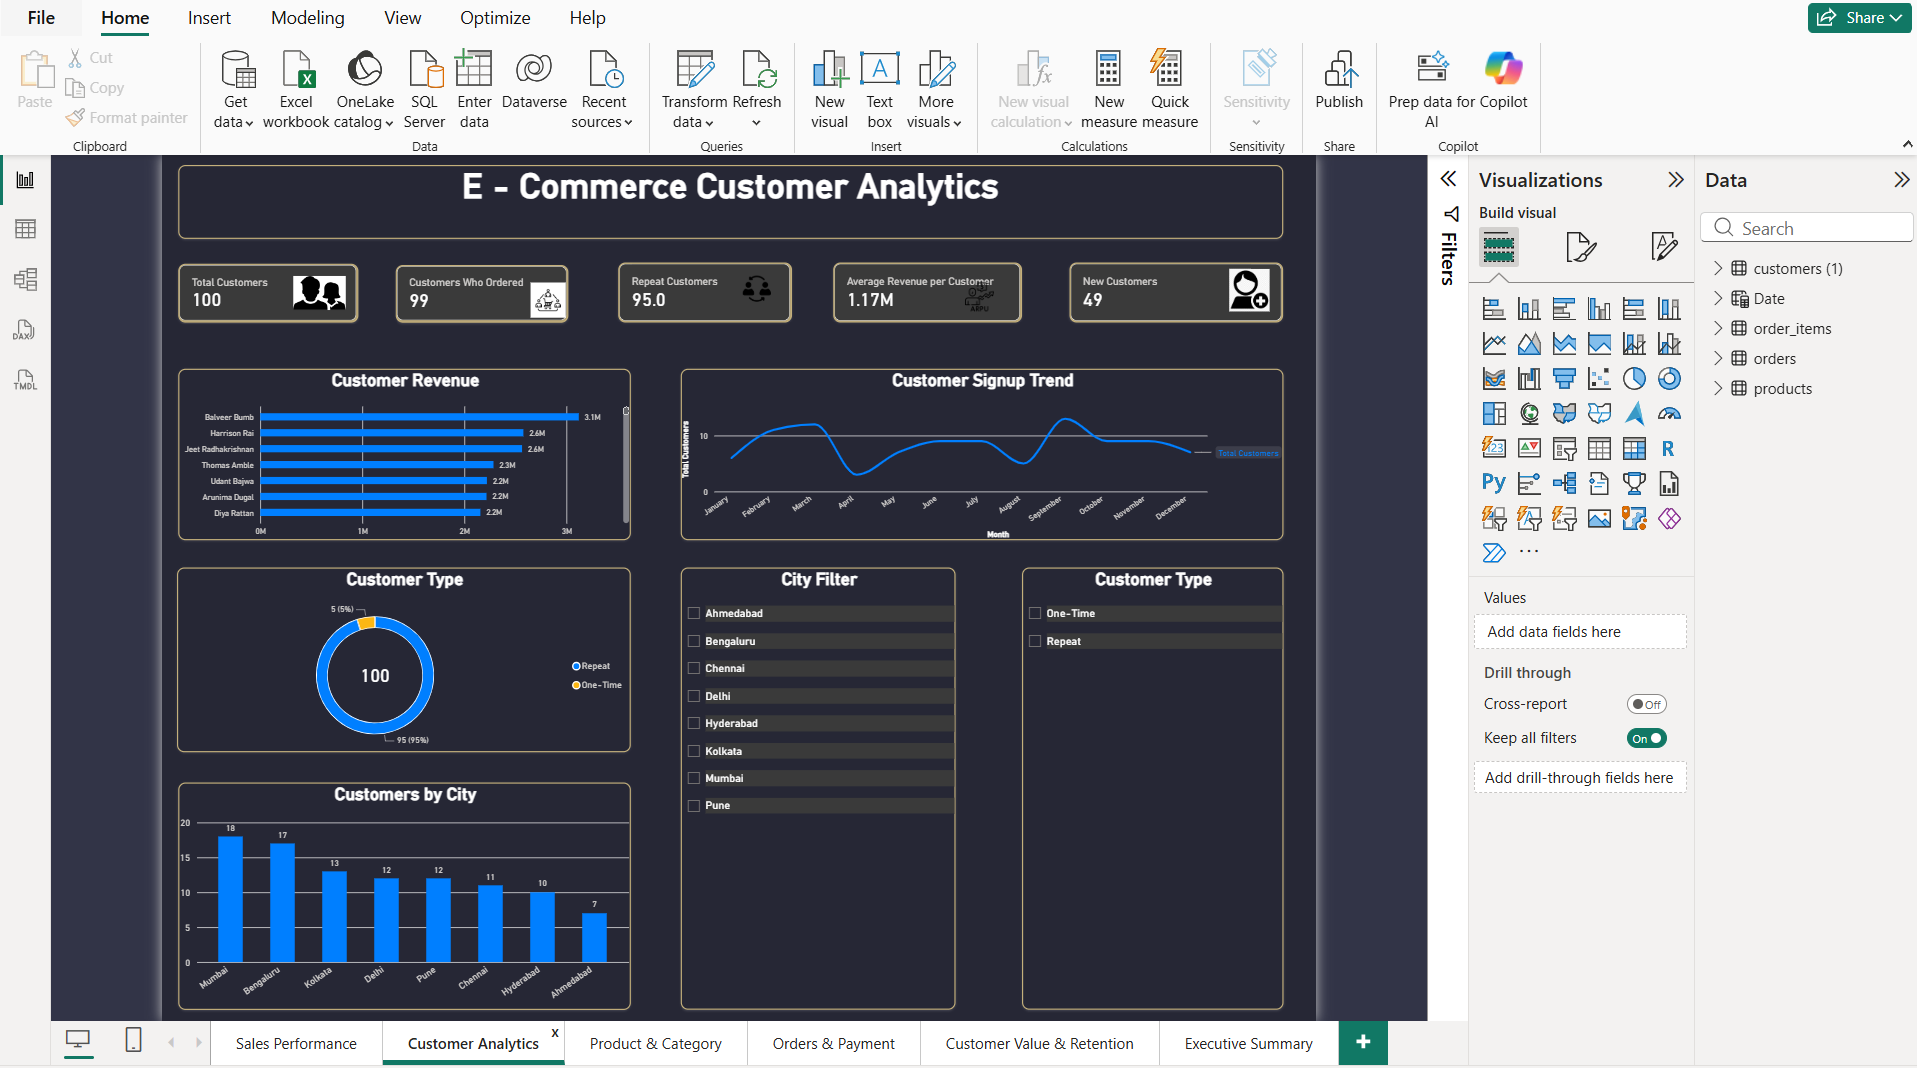

The page's visual inventory and layout, read from the dashboard file:
{"tool":"powerbi","page":{"name":"Customer Analytics","canvas":[1600,1200],"ordinal":1},"visuals":[{"type":"cardVisual","fields":{"Data":["customers (1).Total Customers"]},"box":[22.5,150.7,249.4,81.4],"z":0},{"type":"cardVisual","fields":{"Data":["customers (1).Customers Who Ordered"]},"box":[323.9,152.4,239,79.7],"z":1000},{"type":"cardVisual","fields":{"Data":["customers (1).Repeat Customers"]},"box":[632.2,149,240.8,83.1],"z":2000},{"type":"cardVisual","fields":{"Data":["customers (1).Average Revenue per Customer"]},"box":[930.1,149,261.5,83.1],"z":3000},{"type":"textbox","box":[22.5,13.9,1531.2,102.2],"z":4000},{"type":"image","box":[181.9,162.8,72.7,57.2],"z":5000},{"type":"image","box":[507.5,176.7,55.4,48.5],"z":6000},{"type":"image","box":[800.2,162.8,48.5,45],"z":7000},{"type":"image","box":[1099.9,176.7,65.8,39.8],"z":8000},{"type":"clusteredBarChart","title":"Customer Revenue","fields":{"Category":["customers (1).customer_name"],"Y":["order_items.Total Revenue"]},"box":[22.5,296.2,627,237.3],"z":9000},{"type":"donutChart","title":"Customer Type","fields":{"Category":["customers (1).Customer Type"],"Y":["CountNonNull(customers (1).customer_id)"]},"box":[20.8,571.6,628.8,256.4],"z":10000},{"type":"clusteredColumnChart","title":"Customers by City","fields":{"Category":["customers (1).city"],"Y":["customers (1).Total Customers"]},"box":[22.5,869.5,627,315.2],"z":11000},{"type":"lineChart","title":"Customer Signup Trend","fields":{"Category":["customers (1).signup_date.Variation.Date Hierarchy.Month"],"Y":["customers (1).Total Customers"]},"box":[718.8,296.2,834.9,237.3],"z":12000},{"type":"slicer","title":"City Filter","fields":{"Values":["customers (1).city"]},"box":[718.8,571.6,381.1,613.2],"z":13000},{"type":"slicer","title":"Customer Type","fields":{"Values":["customers (1).Customer Type"]},"box":[1191.7,571.6,362,613.2],"z":14000},{"type":"cardVisual","fields":{"Data":["Date.New Customers"]},"box":[1257.5,149,296.2,83.1],"z":15000},{"type":"image","box":[1474,157.6,65.8,58.9],"z":16000}]}

Visuals, with their boxes on the page's 1600x1200 design canvas (x1, y1, x2, y2). These are canvas units, not pixel positions in the 1917x1068 screenshot, which may show the page scaled, cropped or inside an application window:
cardVisual - customers (1).Total Customers: select_region(22, 151, 272, 232)
cardVisual - customers (1).Customers Who Ordered: select_region(324, 152, 563, 232)
cardVisual - customers (1).Repeat Customers: select_region(632, 149, 873, 232)
cardVisual - customers (1).Average Revenue per Customer: select_region(930, 149, 1192, 232)
textbox: select_region(22, 14, 1554, 116)
image: select_region(182, 163, 255, 220)
image: select_region(508, 177, 563, 225)
image: select_region(800, 163, 849, 208)
image: select_region(1100, 177, 1166, 216)
"Customer Revenue" clusteredBarChart: select_region(22, 296, 650, 534)
"Customer Type" donutChart: select_region(21, 572, 650, 828)
"Customers by City" clusteredColumnChart: select_region(22, 870, 650, 1185)
"Customer Signup Trend" lineChart: select_region(719, 296, 1554, 534)
"City Filter" slicer: select_region(719, 572, 1100, 1185)
"Customer Type" slicer: select_region(1192, 572, 1554, 1185)
cardVisual - Date.New Customers: select_region(1258, 149, 1554, 232)
image: select_region(1474, 158, 1540, 216)
